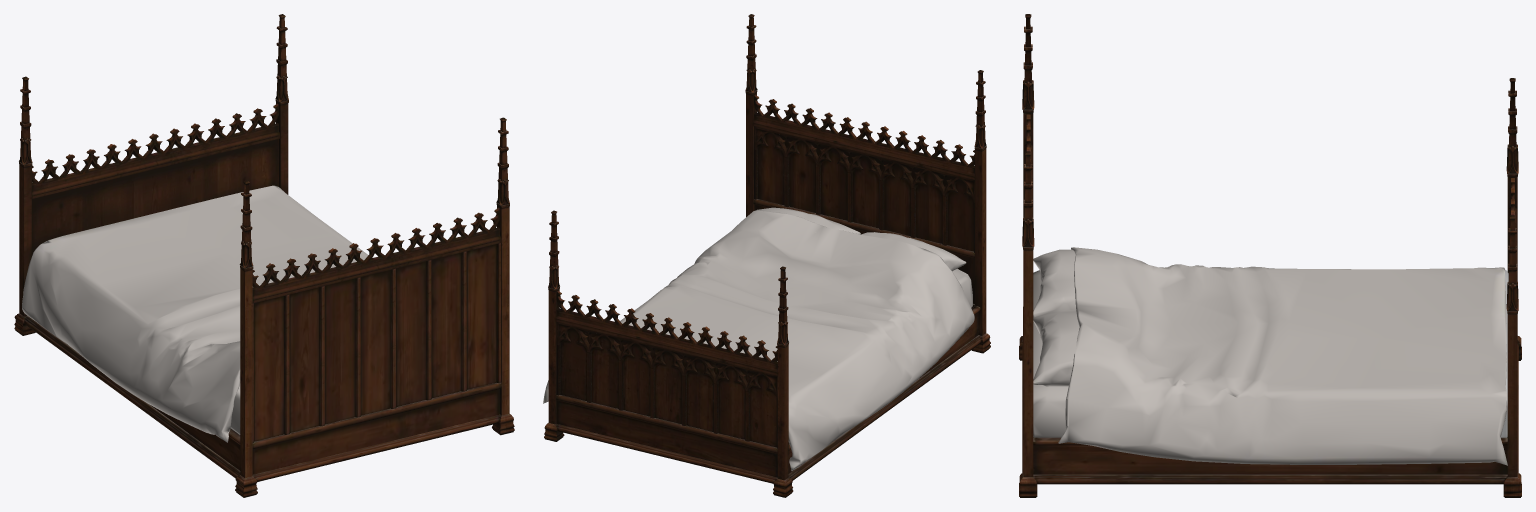
The model's file is GothicBed_01.glb.
3 views of the same model, side by side, from view 1: azimuth 30°, elevation 25°; view 2: azimuth 150°, elevation 25°; view 3: azimuth 270°, elevation 25° (orthographic). The views are drawn at different scales.
Parts seen in each view (by area): view 1: GothicBed_01; view 2: GothicBed_01; view 3: GothicBed_01.
Part boxes in pixels (x1,y1,x2,y2): GothicBed_01: (14, 14, 514, 497); GothicBed_01: (543, 14, 990, 497); GothicBed_01: (1019, 14, 1521, 497).
Bounding box in the file's own units: 1.49 × 1.53 × 2.04.
Materials: 1 (1 with a texture image).
